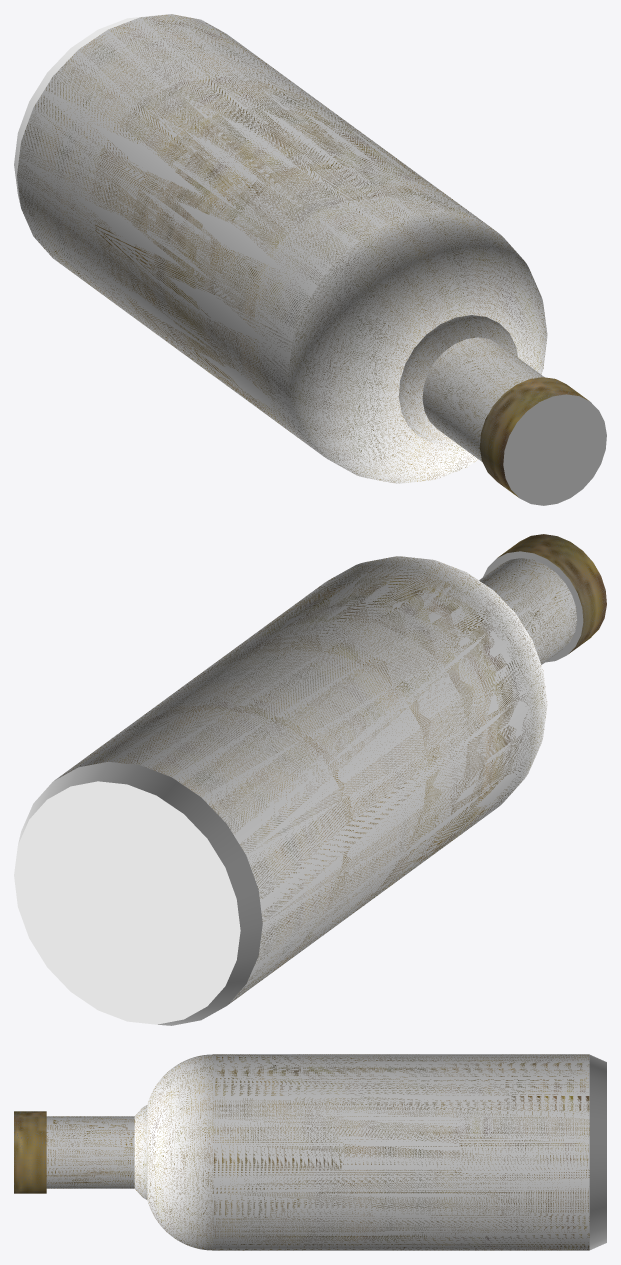
File: model_scale.obj
3 views of the same model, one above another, from view 1: azimuth 30°, elevation 25°; view 2: azimuth 150°, elevation 25°; view 3: azimuth 270°, elevation 25° (orthographic). The views are drawn at different scales.
Parts seen in each view (by area): view 1: mesh2_mesh2-geometry, mesh4_mesh4-geometry, mesh3_mesh3-geometry, mesh1_mesh1-geometry; view 2: mesh2_mesh2-geometry, mesh1_mesh1-geometry, mesh3_mesh3-geometry, mesh4_mesh4-geometry; view 3: mesh2_mesh2-geometry, mesh3_mesh3-geometry, mesh1_mesh1-geometry, mesh4_mesh4-geometry.
Boxes of the visible parts, x1=… form: mesh2_mesh2-geometry: x1=17, y1=14, x2=547, y2=483; mesh4_mesh4-geometry: x1=479, y1=377, x2=606, y2=505; mesh3_mesh3-geometry: x1=398, y1=315, x2=544, y2=461; mesh1_mesh1-geometry: x1=14, y1=14, x2=167, y2=205; mesh2_mesh2-geometry: x1=54, y1=556, x2=547, y2=1005; mesh1_mesh1-geometry: x1=14, y1=761, x2=262, y2=1025; mesh3_mesh3-geometry: x1=479, y1=558, x2=576, y2=664; mesh4_mesh4-geometry: x1=483, y1=534, x2=606, y2=662; mesh2_mesh2-geometry: x1=147, y1=1054, x2=589, y2=1250; mesh3_mesh3-geometry: x1=46, y1=1105, x2=147, y2=1199; mesh1_mesh1-geometry: x1=589, y1=1055, x2=606, y2=1249; mesh4_mesh4-geometry: x1=14, y1=1111, x2=46, y2=1193.
Bounding box in the file's own units: 0.0919 × 0.0919 × 0.2769.
